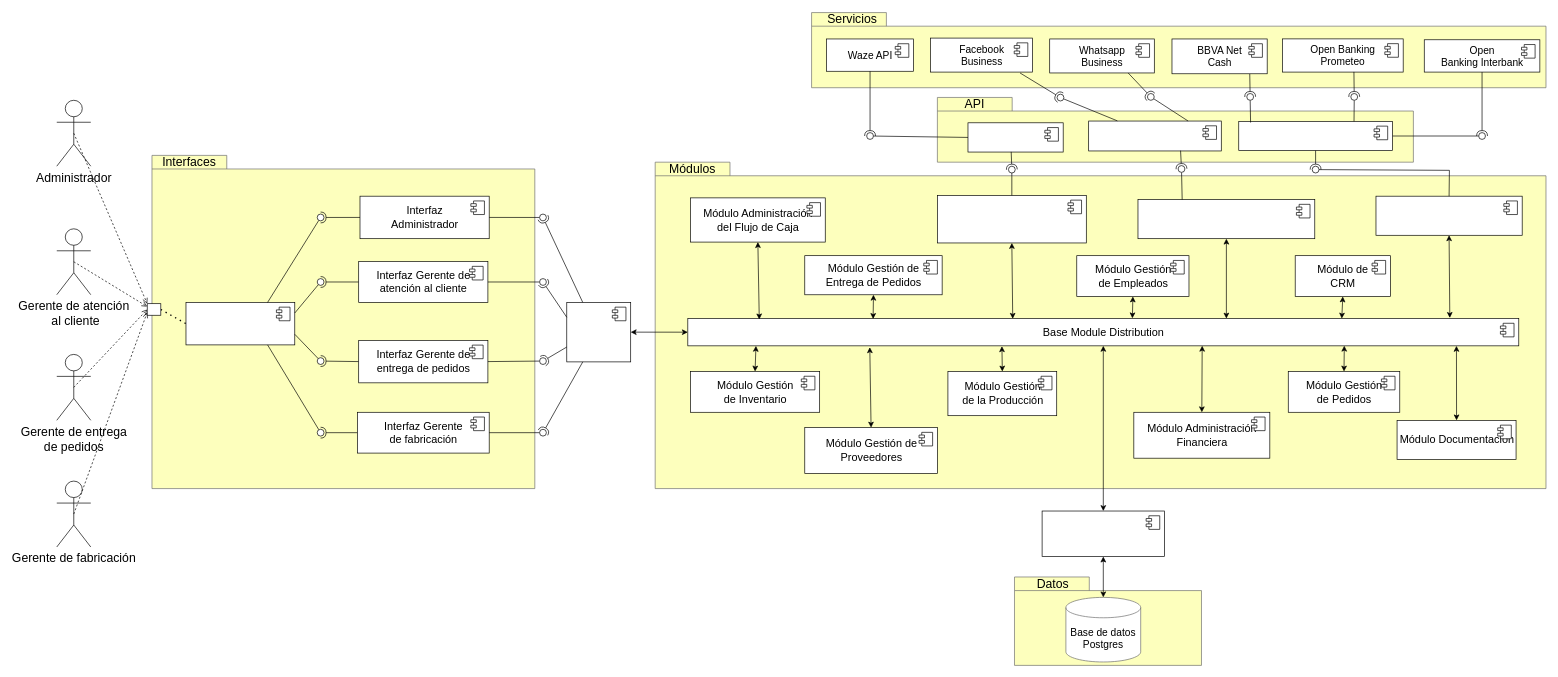
Image size: 1558x677. Some labels were removed from this diagram. The shapes that lost their labels are listed below. From the top down, each one's centre as x and y in pixels, then its label:
At [1015,137]: "API Waze".
At [1154,135]: "API Redes Sociales".
At [1315,136]: "API Cuentas Bancarias".
At [1011,219]: "Módulo Configuración de Herramientas de Navegación".
At [1226,219]: "Módulo Gestión de Canales de Comunicación".
At [1448,215]: "Módulo Configuración de las Cuentas Bancarias".
At [240,323]: "Interfaz de Login".
At [598,332]: "Odoo Web Services".
At [1102,533]: "Odoo - ORM".
